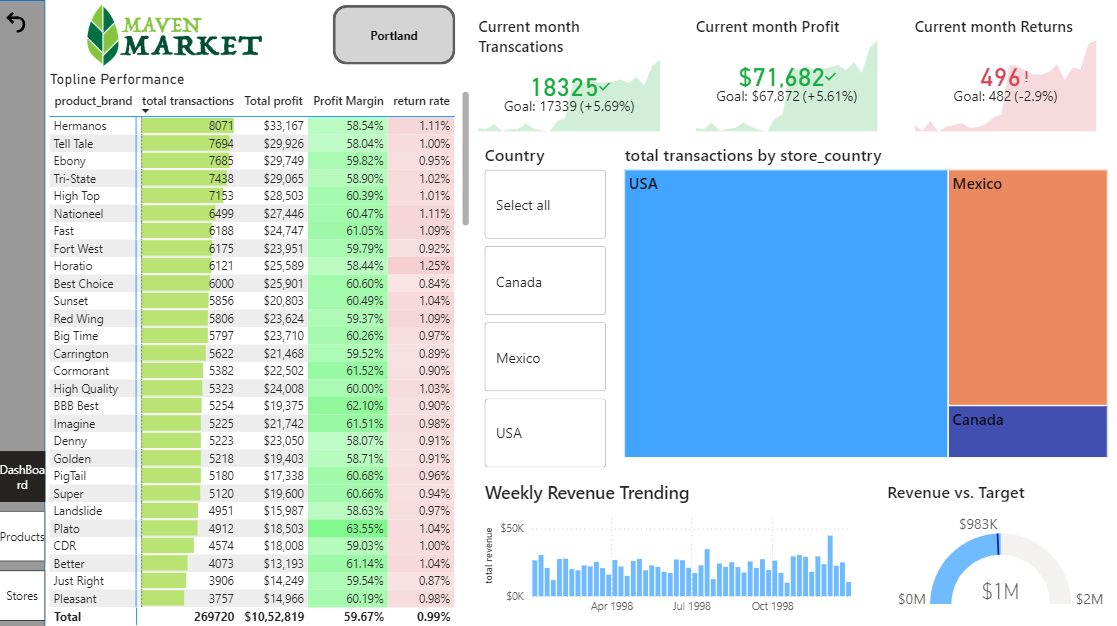

Layout of this report page (visuals, bound fields, positions):
{"tool":"powerbi","page":{"name":"DashBoard","canvas":[1280,720],"ordinal":0},"visuals":[{"type":"kpi","title":"Current month Transcations","fields":{"Indicator":["Measure Table.total transactions"],"TrendLine":["Calendar.Start of Month"],"Goal":["Measure Table.last month transcations"]},"box":[543,18,218,137],"z":0,"group":"g1"},{"type":"pivotTable","title":"Topline Performance","fields":{"Rows":["Products.product_brand"],"Values":["Measure Table.total transactions","Measure Table.Total profit","Measure Table.Profit Margin","Measure Table.return rate"]},"box":[53,80,490,639],"z":0},{"type":"image","box":[35,0,328,80],"z":1000},{"type":"kpi","title":"Current month Profit","fields":{"TrendLine":["Calendar.Start of Month"],"Goal":["Measure Table.last month profit"],"Indicator":["Measure Table.Total profit"]},"box":[792,18,218,137],"z":1000,"group":"g1"},{"type":"group","id":"g1","title":"Group 1","box":[543,18,716,137],"z":2000},{"type":"kpi","title":"Current month Returns","fields":{"TrendLine":["Calendar.Start of Month"],"Goal":["Measure Table.last month returns"],"Indicator":["Measure Table.total returns"]},"box":[1041,18,218,137],"z":2000,"group":"g1"},{"type":"advancedSlicerVisual","title":"Country","fields":{"Values":["Stores.store_country"]},"box":[550,164,149,377],"z":3000},{"type":"treemap","fields":{"Group":["Stores.store_country","Stores.store_state","Stores.store_city"],"Values":["Measure Table.total transactions"]},"box":[710,164,562,364],"z":4000},{"type":"columnChart","title":"Weekly Revenue Trending","fields":{"Y":["Measure Table.total revenue"],"Category":["Calendar.Start of Week"]},"box":[550,548,452,163],"z":5000},{"type":"gauge","title":"Revenue vs. Target","fields":{"Y":["Measure Table.total revenue"],"TargetValue":["Measure Table.revenue target"]},"box":[1010,548,270,152],"z":6000},{"type":"shape","box":[0,0,53,720],"z":7000},{"type":"actionButton","box":[381,5,140,68],"z":8000},{"type":"actionButton","box":[2.7,8.1,38.5,33.1],"z":9000},{"type":"pageNavigator","box":[0,516,53,195],"z":10000}]}

Visuals, with their boxes on the page's 1280x720 design canvas (x1, y1, x2, y2). These are canvas units, not pixel positions in the 1117x626 screenshot, which may show the page scaled, cropped or inside an application window:
"Current month Transcations" kpi: l=543, t=18, r=761, b=155
"Topline Performance" pivotTable: l=53, t=80, r=543, b=719
image: l=35, t=0, r=363, b=80
"Current month Profit" kpi: l=792, t=18, r=1010, b=155
"Group 1" group: l=543, t=18, r=1259, b=155
"Current month Returns" kpi: l=1041, t=18, r=1259, b=155
"Country" advancedSlicerVisual: l=550, t=164, r=699, b=541
treemap - Stores.store_country x Stores.store_state: l=710, t=164, r=1272, b=528
"Weekly Revenue Trending" columnChart: l=550, t=548, r=1002, b=711
"Revenue vs. Target" gauge: l=1010, t=548, r=1280, b=700
shape: l=0, t=0, r=53, b=720
actionButton: l=381, t=5, r=521, b=73
actionButton: l=3, t=8, r=41, b=41
pageNavigator: l=0, t=516, r=53, b=711
